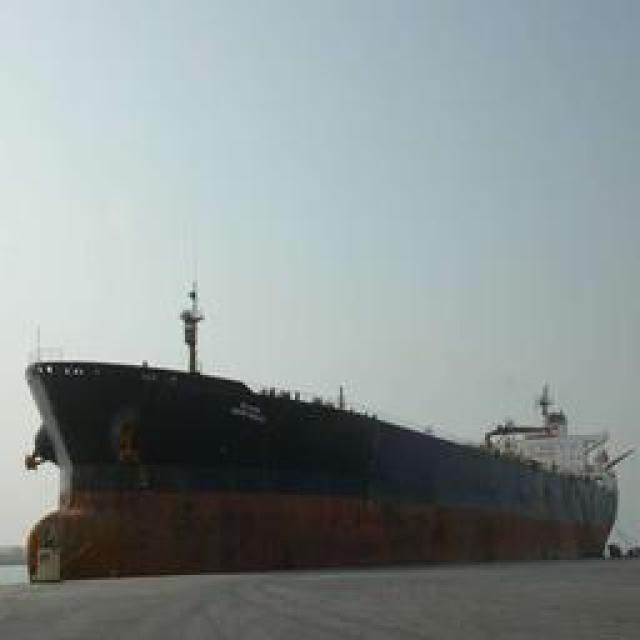Ship: (10, 349, 628, 587)
